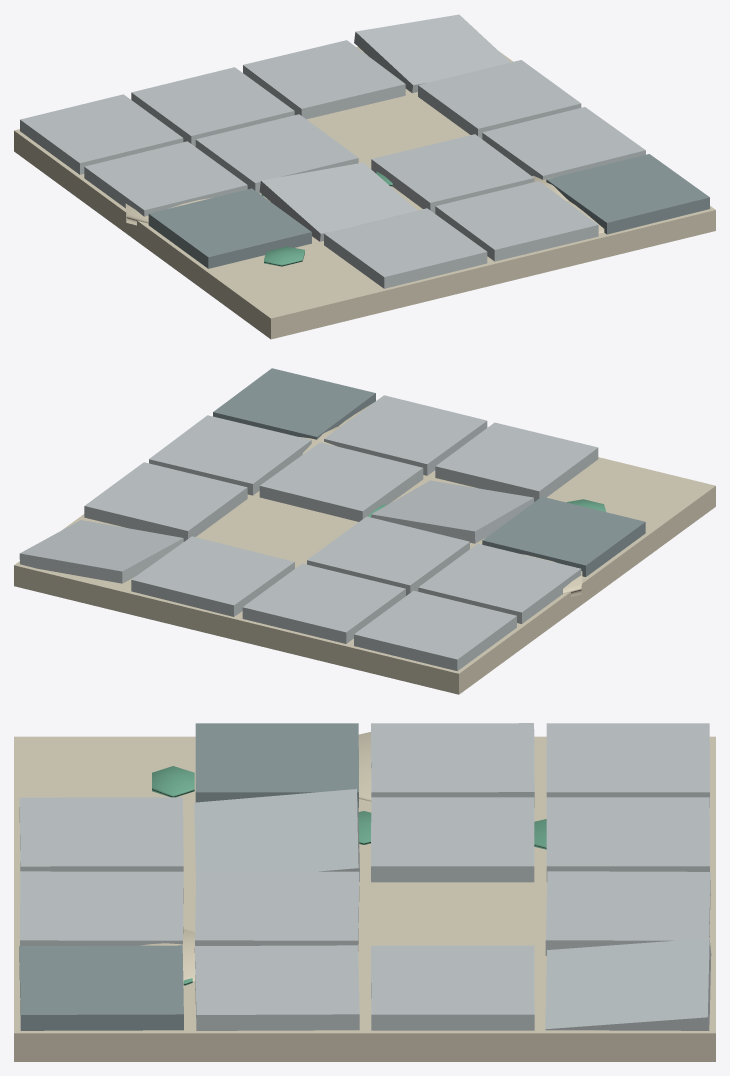
File: sunken-city-and-underwater-ruins-cracked-paving-module-b07aa399__36948.glb
3 views of the same model, one above another, from view 1: azimuth 30°, elevation 25°; view 2: azimuth 150°, elevation 25°; view 3: azimuth 270°, elevation 25° (orthographic). The views are drawn at different scales.
Parts seen in each view (by area): view 1: cracked-paving-module; view 2: cracked-paving-module; view 3: cracked-paving-module.
Part boxes in pixels (bbox=[...]): cracked-paving-module: bbox=[14, 14, 715, 339]; cracked-paving-module: bbox=[14, 368, 715, 694]; cracked-paving-module: bbox=[14, 723, 715, 1061].
Bounding box in the file's own units: 4.05 × 0.334 × 4.
